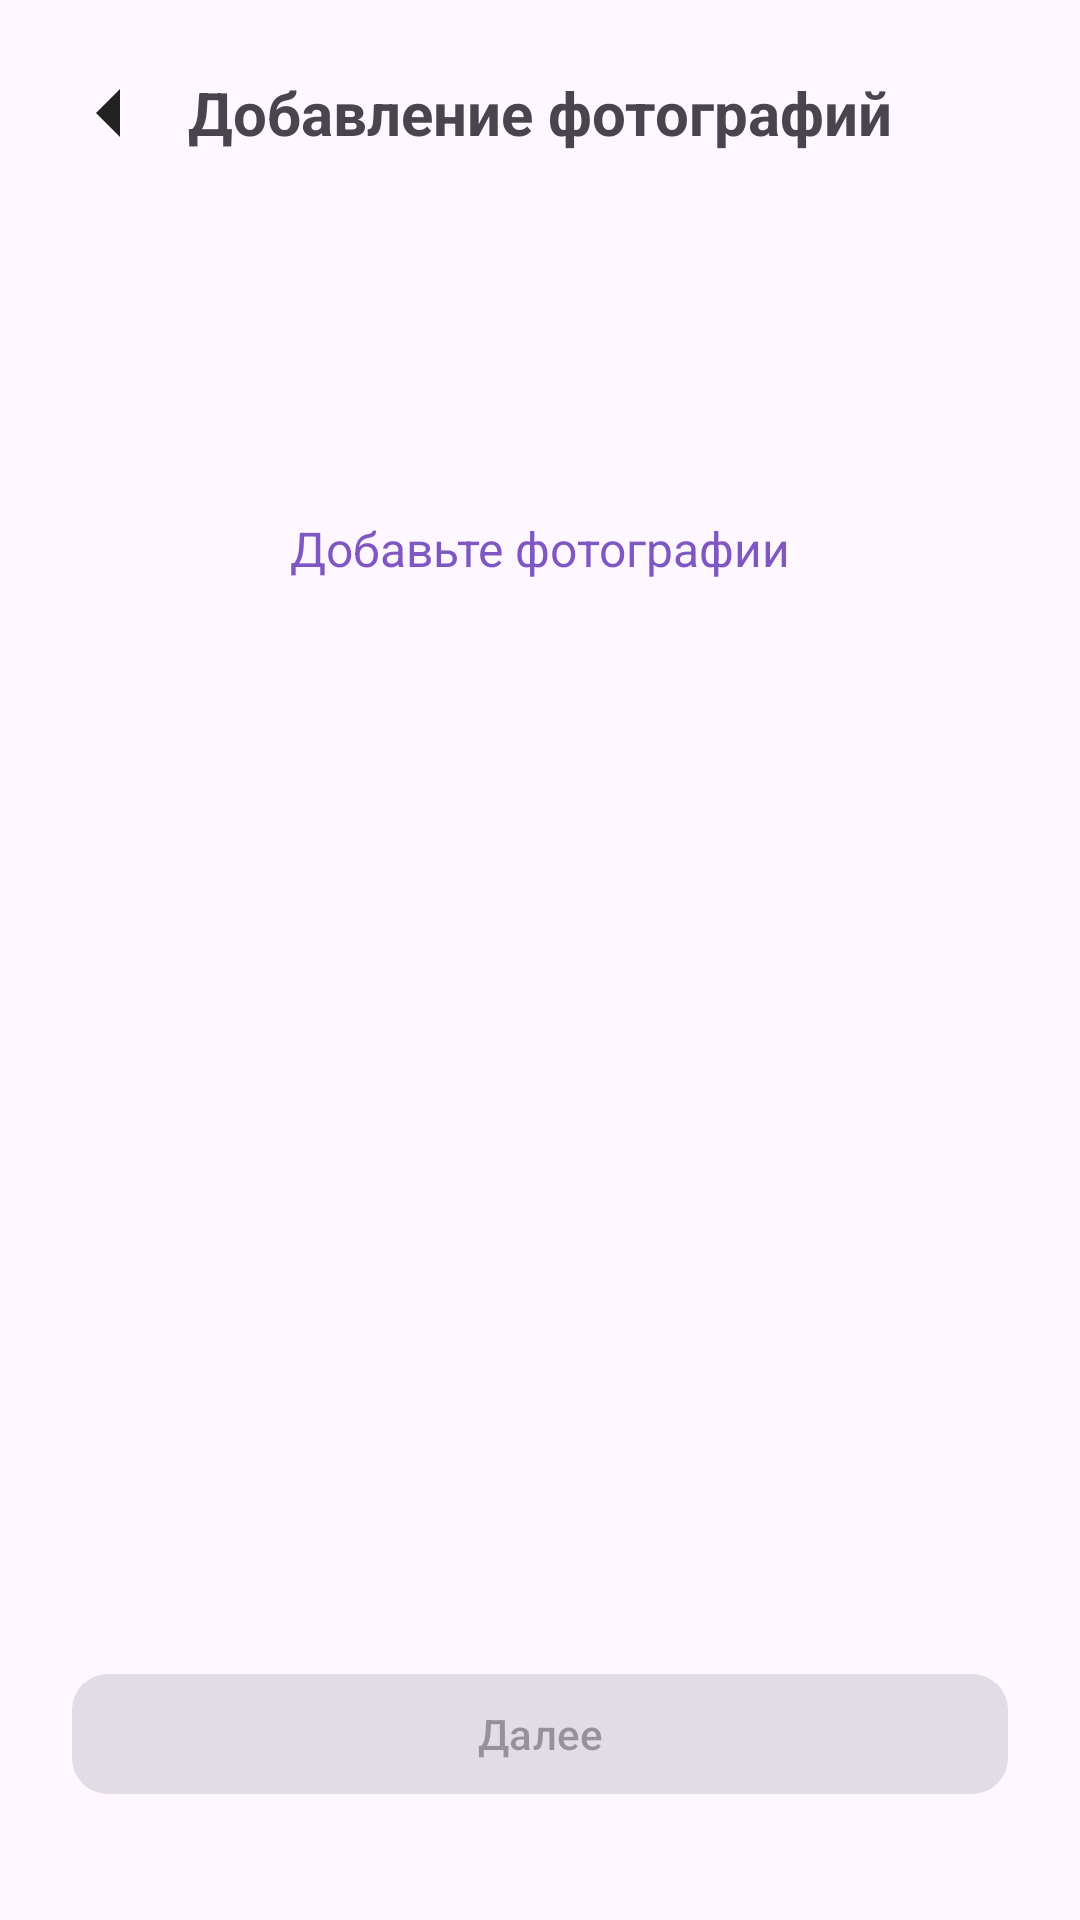

Named icons in this screenshot (1080*1920) and their bounding boxes, [x1, y1, x2, y2]:
Назад: [96, 89, 120, 137]
